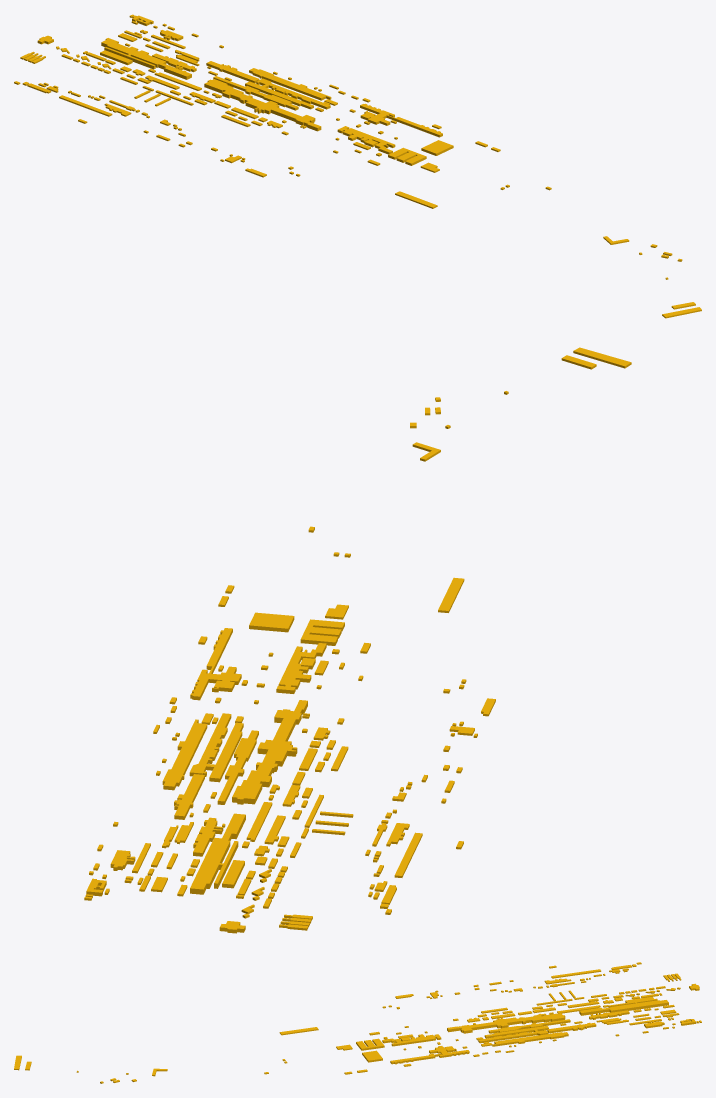
The picture shows the model from 3 angles, top to bottom: view 1: azimuth 30°, elevation 25°; view 2: azimuth 150°, elevation 25°; view 3: azimuth 270°, elevation 25°; orthographic projection. The views are drawn at different scales.
Parts seen in each view (by area): view 1: 1924.001; view 2: 1924.001; view 3: 1924.001.
Part boxes in pixels (box(x1,y1,x2,y2)): 1924.001: box(14, 14, 701, 318); 1924.001: box(84, 347, 631, 933); 1924.001: box(14, 962, 701, 1083).
Size of the model in its own units: 1491 by 15.24 by 3594.
